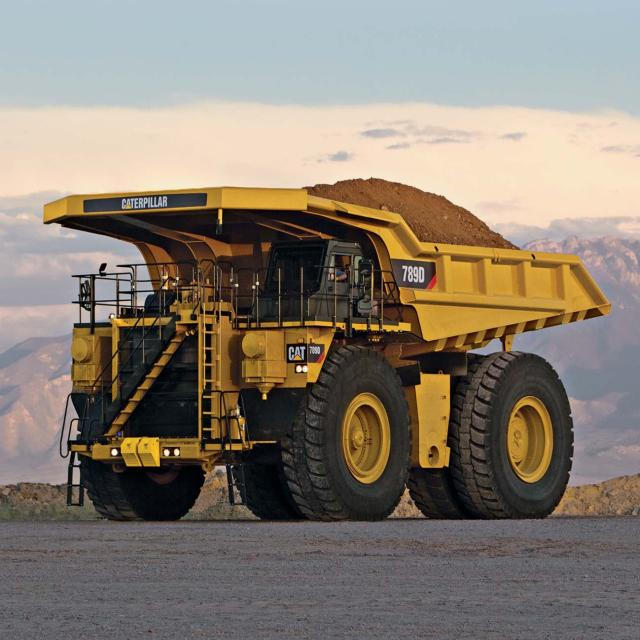dump_truck: (38, 170, 620, 526)
